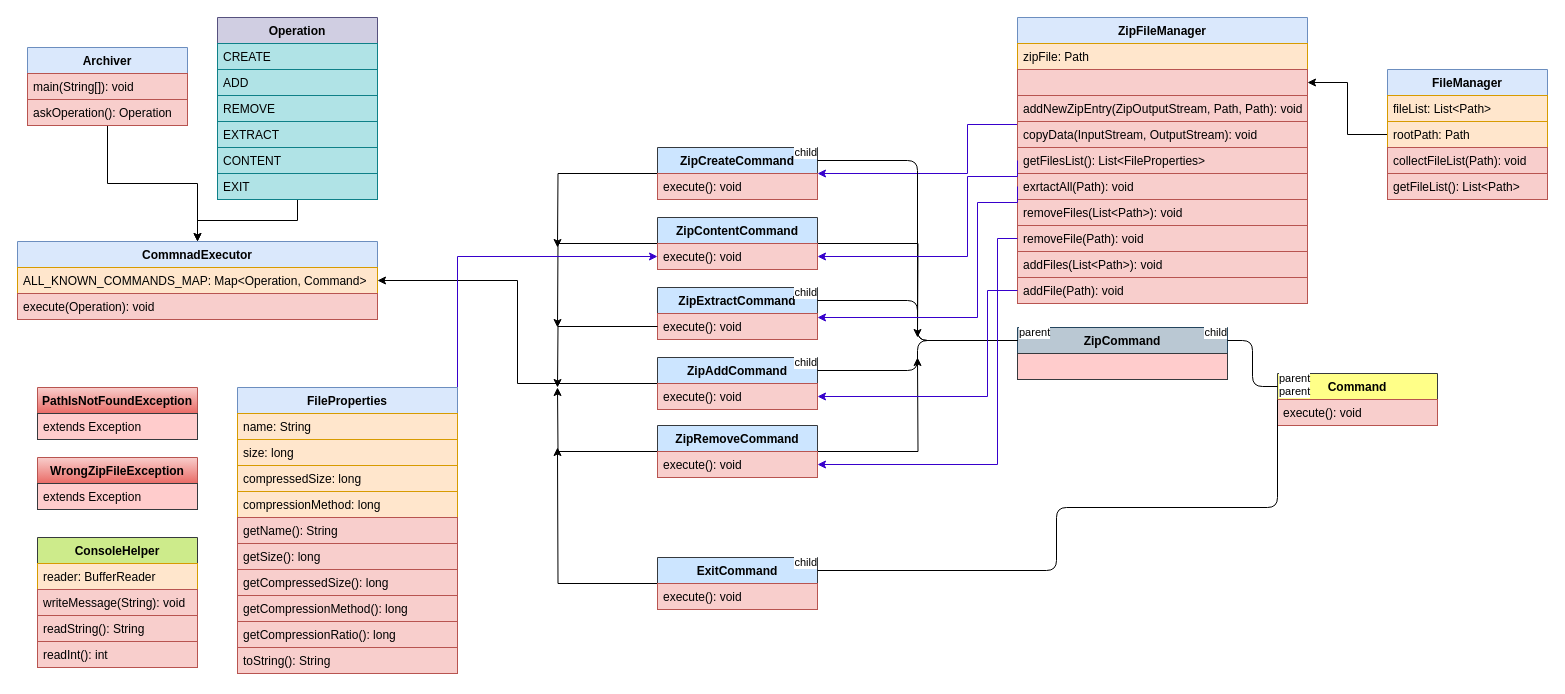
Image size: 1565x694. Some labels were removed from this diagram. The centre of each missing label's shape, as x and y in pixels:
createZip(Path): void: the point at 1162,82
getZipFileManager(): ZipFileManager: the point at 1122,366
